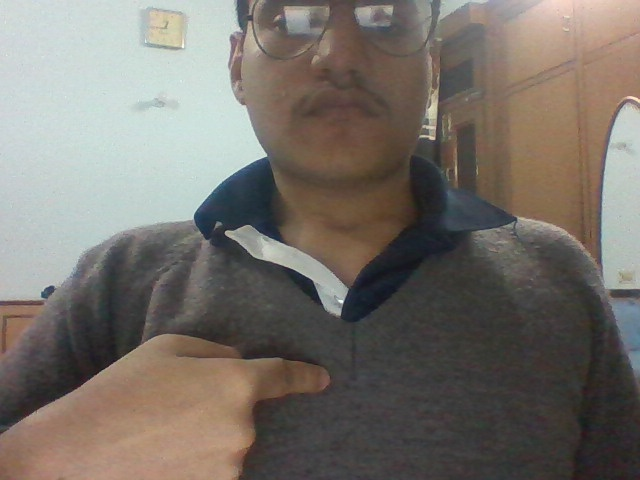I: (56, 304, 362, 480)
